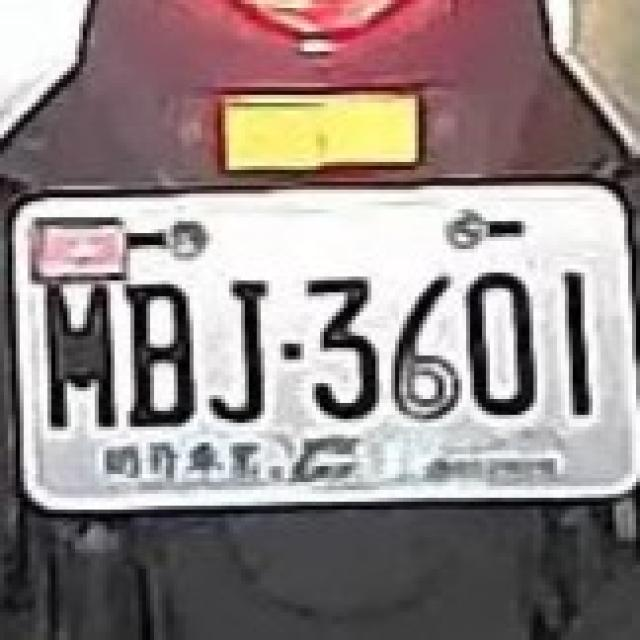license-plate: (1, 169, 640, 514)
